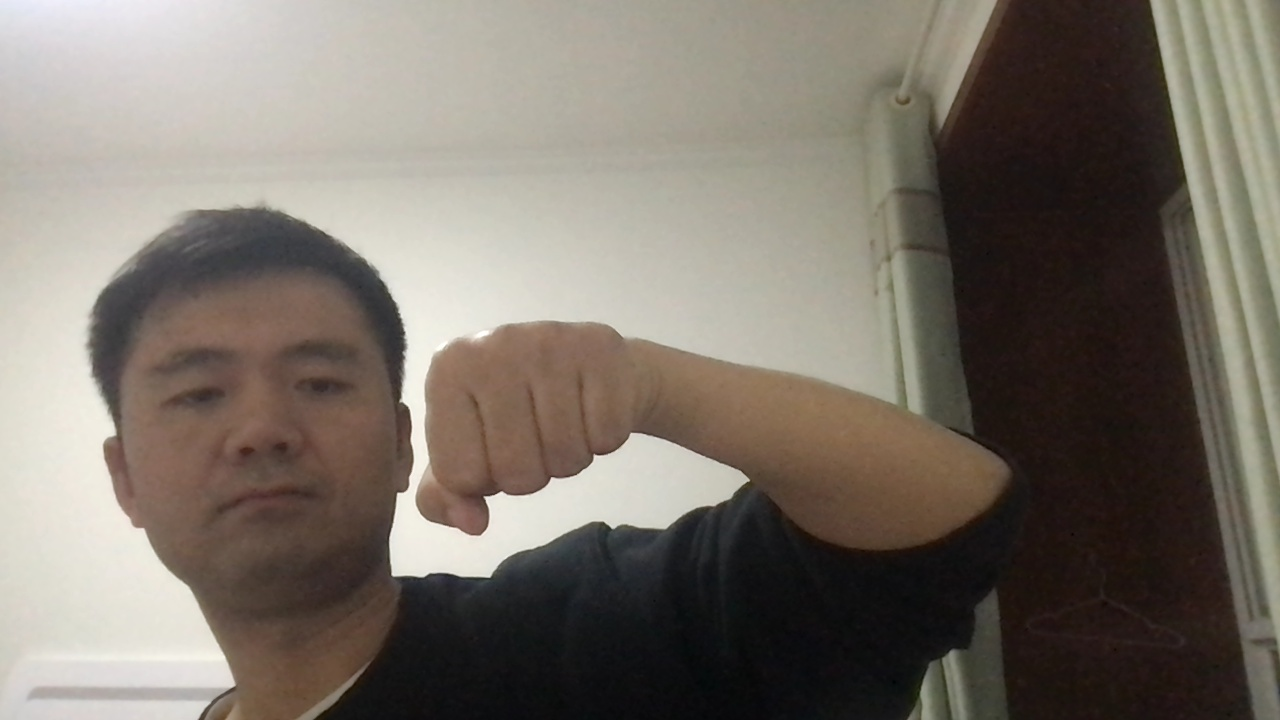ok: (413, 309, 679, 550)
